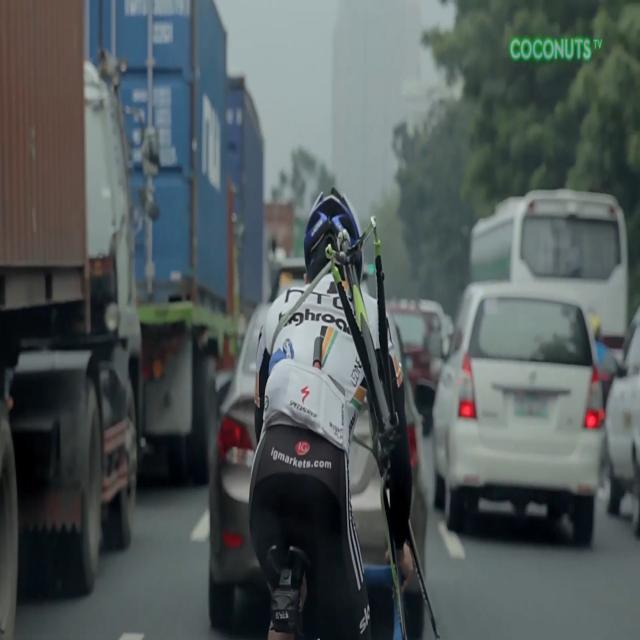bike: (246, 191, 415, 640)
bus: (467, 186, 631, 354)
truck: (0, 0, 161, 640), (85, 0, 246, 497)
